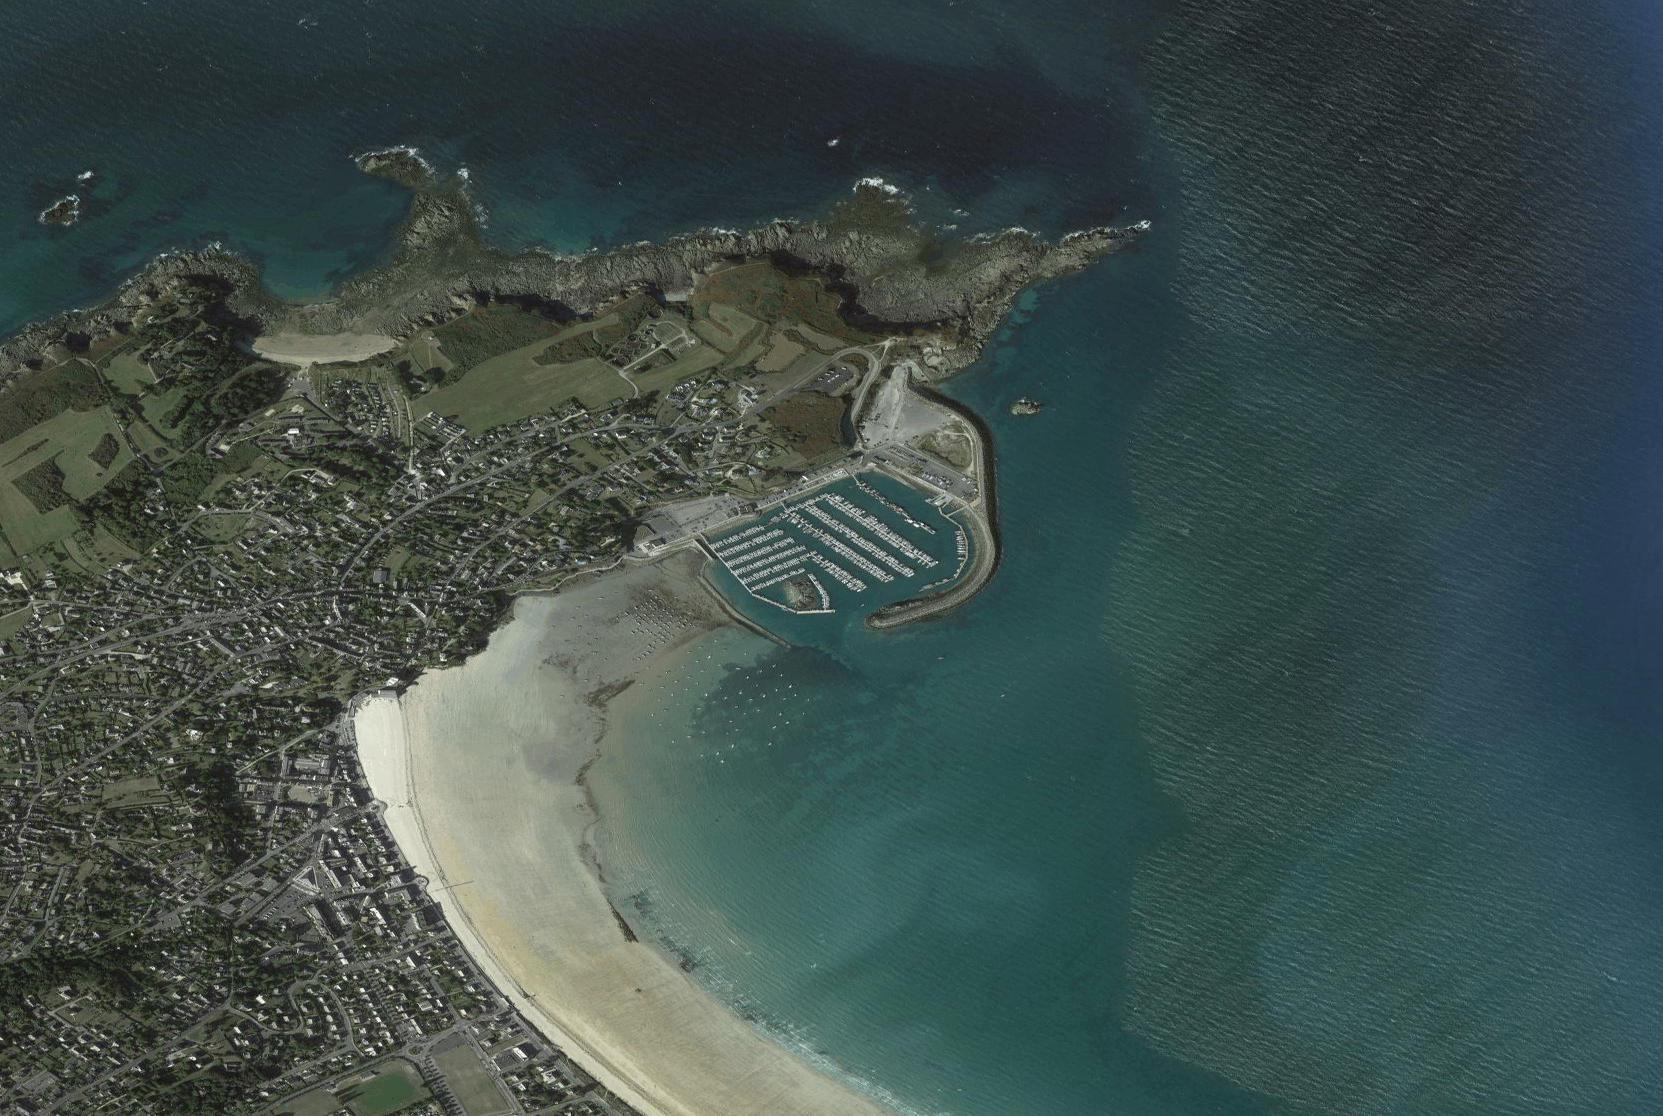harbor: (676, 460, 1004, 661)
